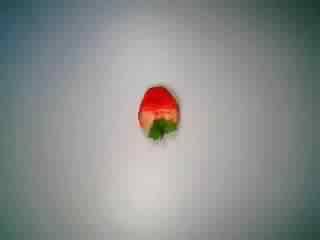strawberry: (122, 79, 188, 145)
